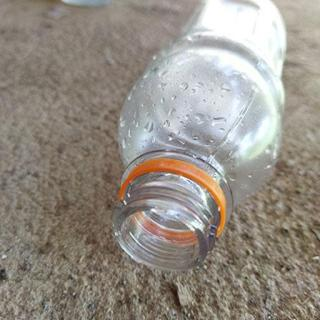Plastic-bottle: (111, 1, 289, 277)
